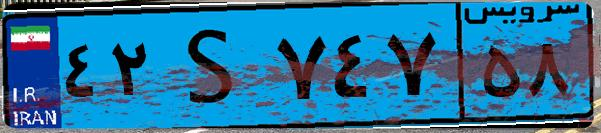2: (110, 28, 158, 98)
4: (330, 28, 385, 110), (57, 26, 110, 100)
5: (475, 38, 525, 113)
7: (270, 28, 330, 110), (385, 28, 445, 110)
8: (525, 38, 570, 115)
S: (158, 12, 270, 120)
